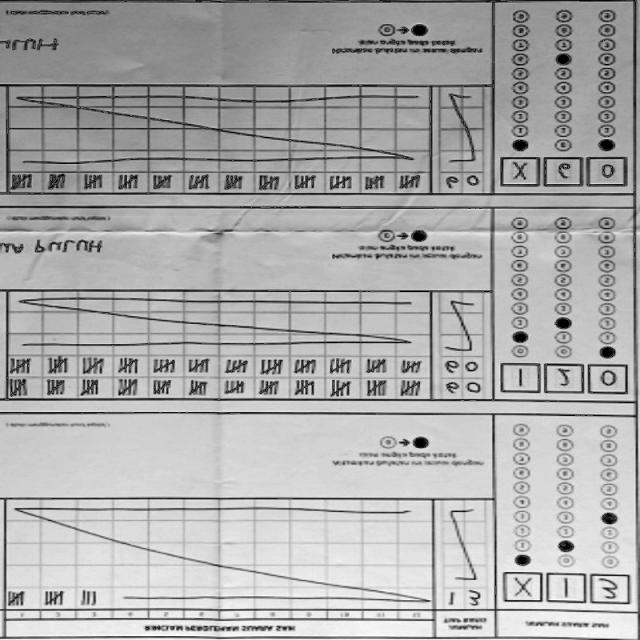Suara: (498, 575, 630, 616), (493, 364, 633, 396), (496, 156, 631, 188)
